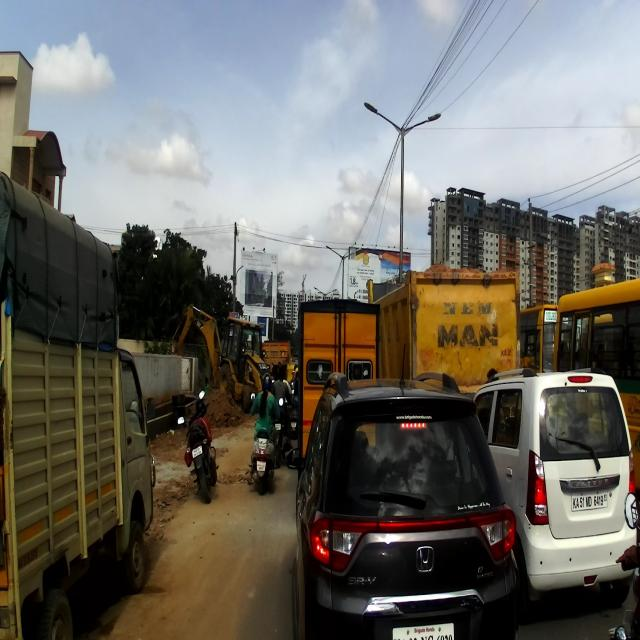car: (283, 368, 524, 638), (470, 365, 638, 608)
motorcycle: (177, 389, 220, 502), (268, 381, 295, 462)
scooter: (249, 389, 286, 492)
truck: (0, 168, 156, 638), (366, 262, 519, 402)
